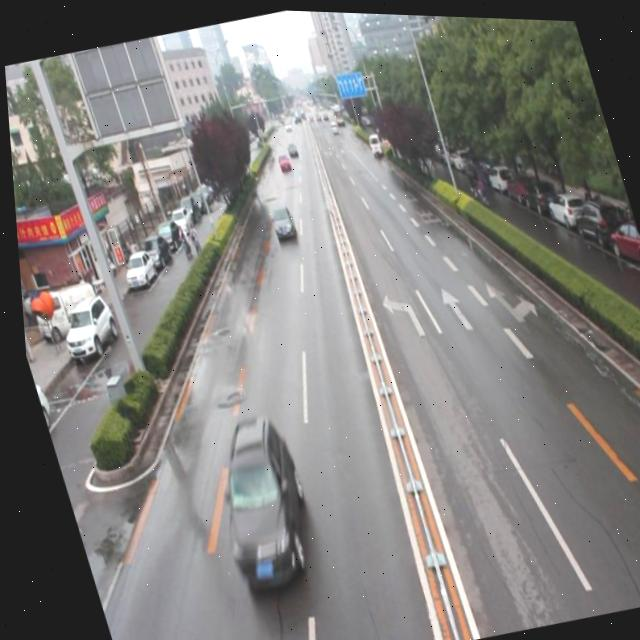car: (187, 410, 322, 592), (263, 198, 295, 239), (272, 147, 289, 170)
truck: (361, 126, 382, 157)
